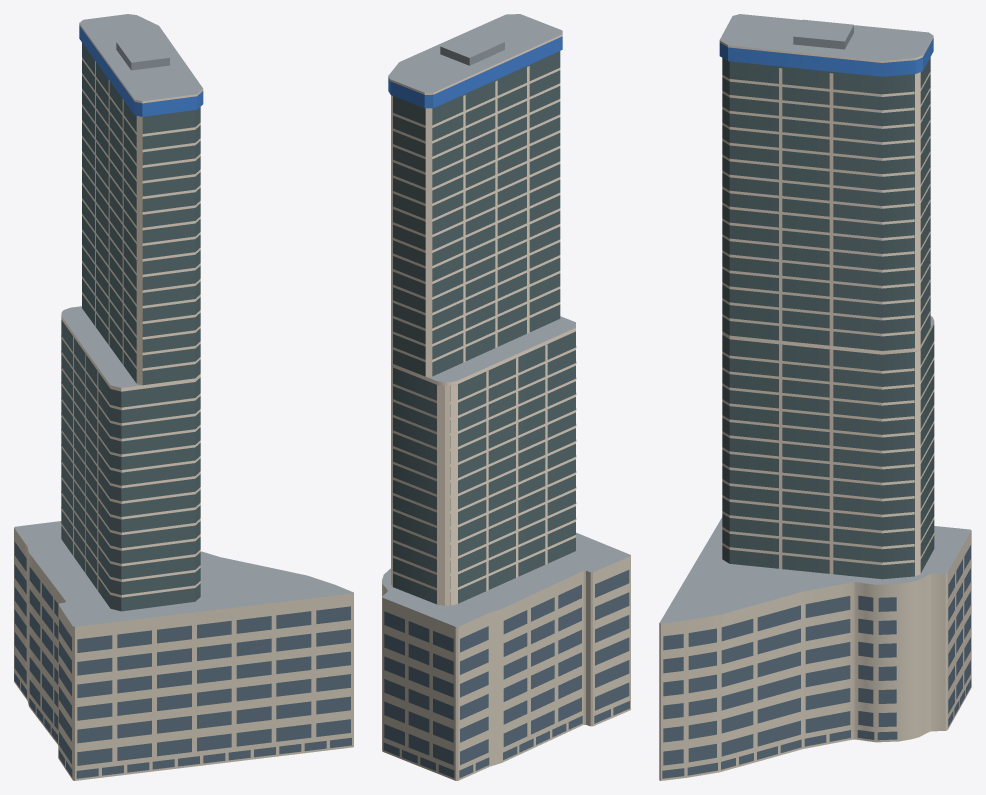
File: mia-panorama-tower.glb
3 views of the same model, side by side, from view 1: azimuth 30°, elevation 25°; view 2: azimuth 150°, elevation 25°; view 3: azimuth 270°, elevation 25° (orthographic). The views are drawn at different scales.
Parts seen in each view (by area): view 1: Panorama Tower; view 2: Panorama Tower; view 3: Panorama Tower.
Part boxes in pixels (x1,y1,x2,y2): Panorama Tower: [14, 14, 353, 780]; Panorama Tower: [382, 14, 630, 780]; Panorama Tower: [659, 14, 971, 780].
Bounding box in the file's own units: 98.69 × 258 × 106.
